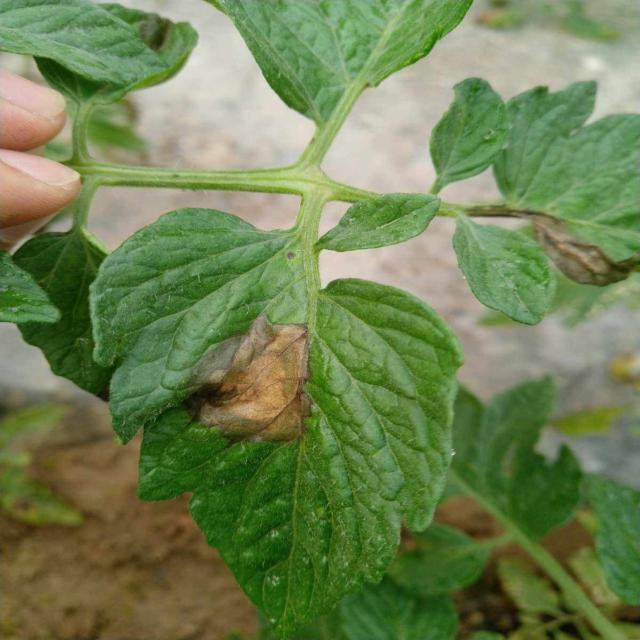Late_blight: (181, 308, 315, 446), (533, 207, 640, 299)
